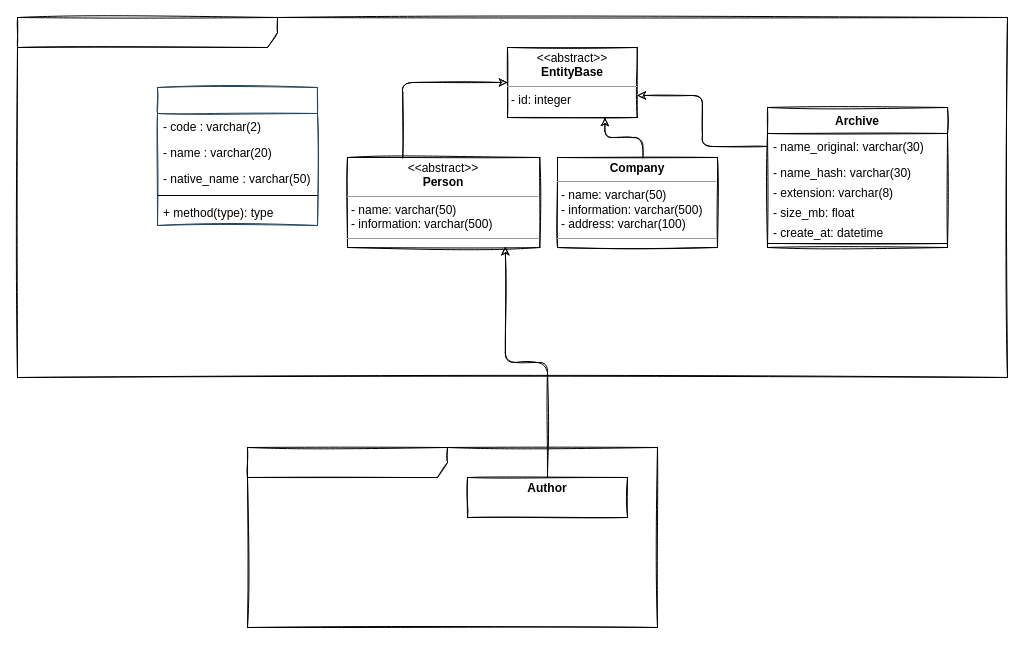
Some shapes in this 1025 by 645 pixel diagram are drawn without their labels. The box of each missing label's shape, as (x1, y1, x2, y2) in pixels:
com.paulobarbosa.foxlibrary.book: (246, 446, 658, 628)
com.paulobarbosa.foxlibrary.core: (16, 16, 1008, 378)
Idiom: (156, 86, 318, 226)
